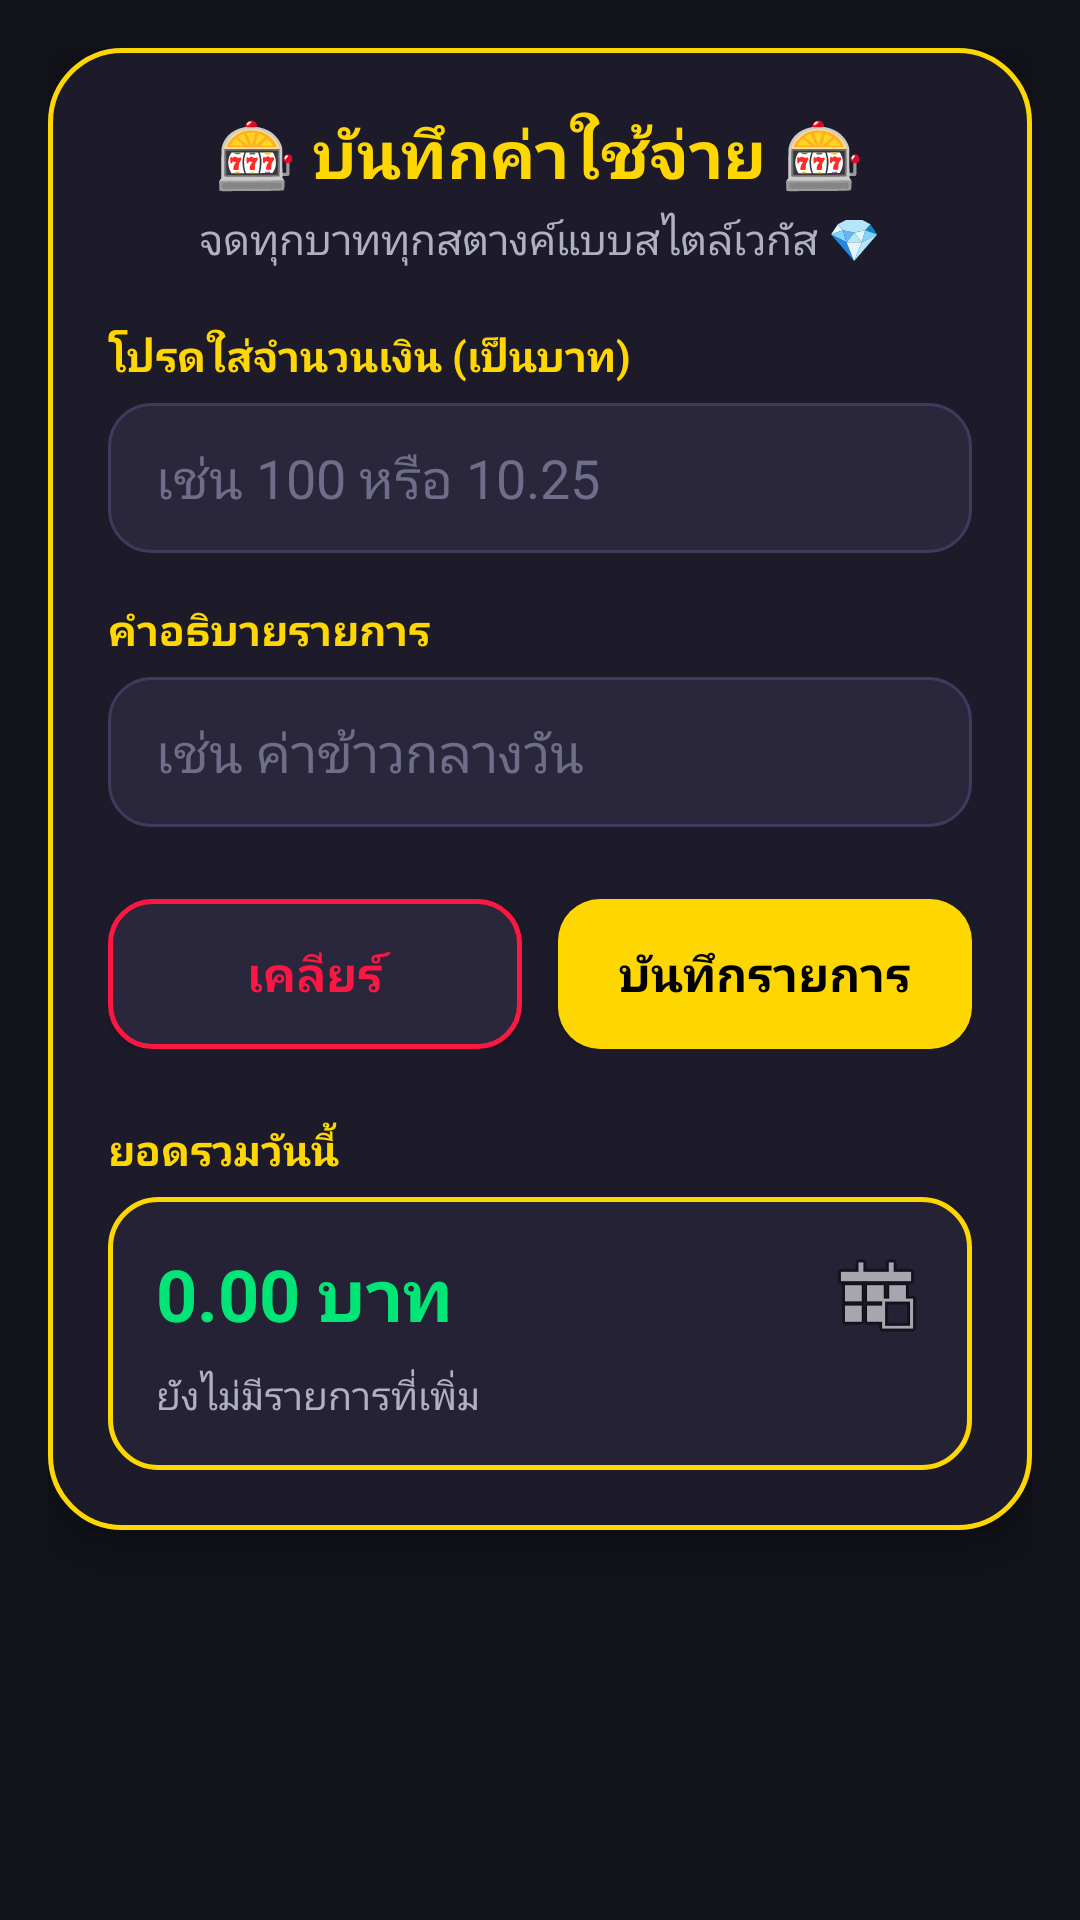

Named icons in this screenshot (1080×1920) and their bounding boxes, (x1, y1, x2, y2):
Icon Today: (840, 1261, 914, 1330)
